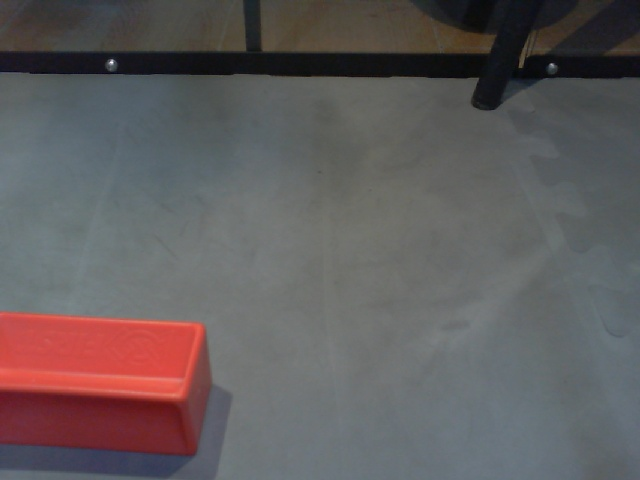RedSample: (1, 310, 213, 457)
